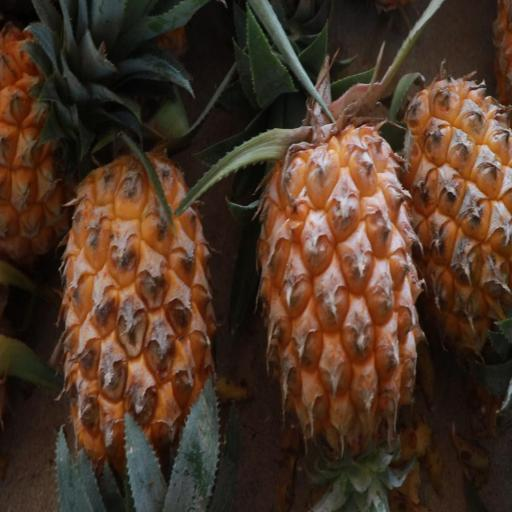Pineapple - v8 v1: (253, 113, 423, 512), (52, 122, 221, 512), (391, 62, 512, 377), (0, 1, 110, 273)
